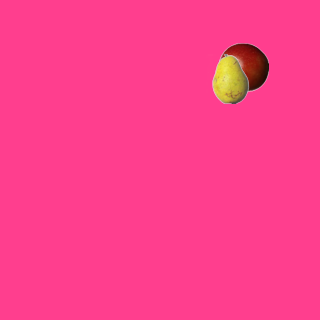Apple Braeburn: (218, 42, 268, 92)
Pear Monster: (205, 53, 255, 103)
